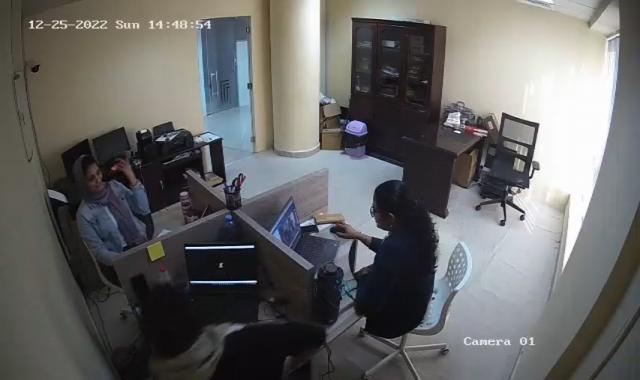no_hairnet: (142, 298, 197, 350), (370, 181, 414, 227), (70, 155, 104, 190)
